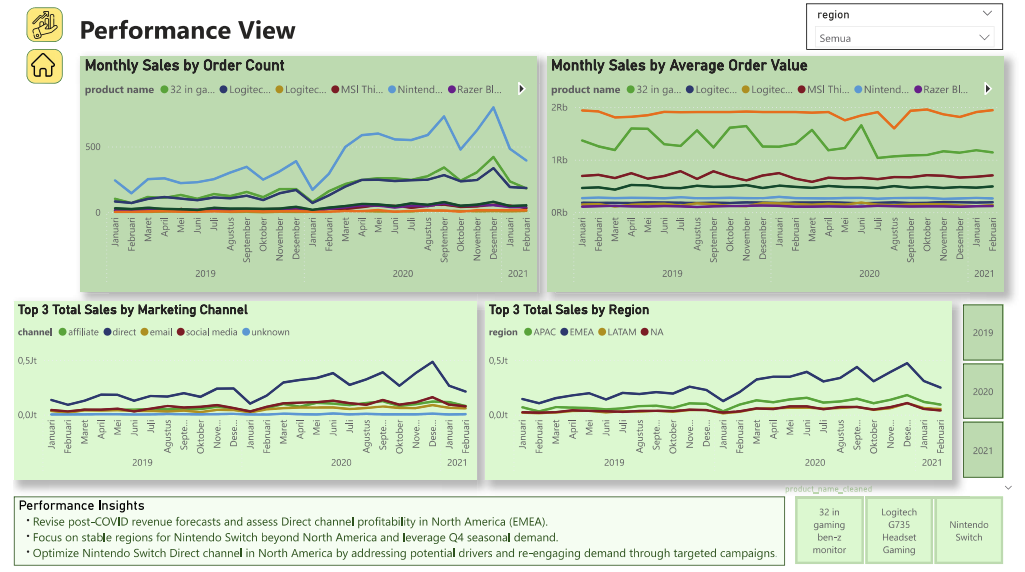

Layout of this report page (visuals, bound fields, positions):
{"tool":"powerbi","page":{"name":"Performance","canvas":[1280,720],"ordinal":2},"visuals":[{"type":"lineChart","title":"Monthly Sales by Order Count","fields":{"Category":["orders_cleaned_.purchase_year","orders_cleaned_.purchase_date_cleaned.Variasi.Hierarki Tanggal.Bulan"],"Series":["orders_cleaned_.product_name_cleaned"],"Y":["CountNonNull(orders_cleaned_.order_id)"]},"box":[84.8,67.2,579.2,299.2],"z":0},{"type":"shape","box":[15.8,4.8,46,43.9],"z":1000,"group":"g2"},{"type":"shape","box":[16,57.6,46.4,43.8],"z":1000,"group":"g1"},{"type":"lineChart","title":"Monthly Sales by Average Order Value","fields":{"Category":["orders_cleaned_.purchase_year","orders_cleaned_.purchase_date_cleaned.Variasi.Hierarki Tanggal.Bulan"],"Y":["Avg(orders_cleaned_.price ($))"],"Series":["orders_cleaned_.product_name_cleaned"]},"box":[676.8,67.2,579.2,299.2],"z":1000},{"type":"image","box":[0,9.7,78.2,33.7],"z":2000,"group":"g2"},{"type":"lineChart","title":"Top 3 Total Sales by Marketing Channel","fields":{"Category":["orders_cleaned_.purchase_year","orders_cleaned_.purchase_date_cleaned.Variasi.Hierarki Tanggal.Bulan"],"Y":["Sum(orders_cleaned_.price ($))"],"Series":["orders_cleaned_.channel_cleaned"]},"box":[0,379.2,587.2,227.2],"z":2000},{"type":"slicer","fields":{"Values":["orders_cleaned_.product_name_cleaned"]},"box":[966.4,606.4,313.6,113.6],"z":3000},{"type":"lineChart","title":"Top 3 Total Sales by Region","fields":{"Category":["orders_cleaned_.purchase_year","orders_cleaned_.purchase_date_cleaned.Variasi.Hierarki Tanggal.Bulan"],"Y":["Sum(orders_cleaned_.price ($))"],"Series":["orders_cleaned_.region"]},"box":[598.4,379.2,592,227.2],"z":4000},{"type":"slicer","fields":{"Values":["orders_cleaned_.purchase_date_cleaned.Variasi.Hierarki Tanggal.Tahun"]},"box":[1179.2,376,100.8,233.6],"z":5000},{"type":"slicer","fields":{"Values":["orders_cleaned_.region"]},"box":[1006.4,0,249.6,59.2],"z":6000},{"type":"group","id":"g1","title":"Grup 1","box":[16,57.6,46.4,44.8],"z":7000},{"type":"group","id":"g2","title":"Grup 1","box":[0,4.8,78.4,44.8],"z":8000},{"type":"textbox","box":[78.4,4.8,300.8,57.6],"z":9000},{"type":"textbox","title":"Performance Insights","box":[0,627.2,979.2,88],"z":10000},{"type":"image","box":[23.2,59.8,29.3,36.6],"z":10002,"group":"g1"}]}

Visuals, with their boxes in screenshot pixels (x1, y1, x2, y2), scaled from the page's 1280x720 canvas onto the 1025x572 screenshot:
"Monthly Sales by Order Count" lineChart: [left=68, top=53, right=532, bottom=291]
shape: [left=13, top=4, right=49, bottom=39]
shape: [left=13, top=46, right=50, bottom=81]
"Monthly Sales by Average Order Value" lineChart: [left=542, top=53, right=1006, bottom=291]
image: [left=0, top=8, right=63, bottom=34]
"Top 3 Total Sales by Marketing Channel" lineChart: [left=0, top=301, right=470, bottom=482]
slicer - orders_cleaned_.product_name_cleaned: [left=774, top=482, right=1024, bottom=571]
"Top 3 Total Sales by Region" lineChart: [left=479, top=301, right=953, bottom=482]
slicer - orders_cleaned_.purchase_date_cleaned.Variasi.Hierarki Tanggal.Tahun: [left=944, top=299, right=1024, bottom=484]
slicer - orders_cleaned_.region: [left=806, top=0, right=1006, bottom=47]
"Grup 1" group: [left=13, top=46, right=50, bottom=81]
"Grup 1" group: [left=0, top=4, right=63, bottom=39]
textbox: [left=63, top=4, right=304, bottom=50]
"Performance Insights" textbox: [left=0, top=498, right=784, bottom=568]
image: [left=19, top=48, right=42, bottom=77]
